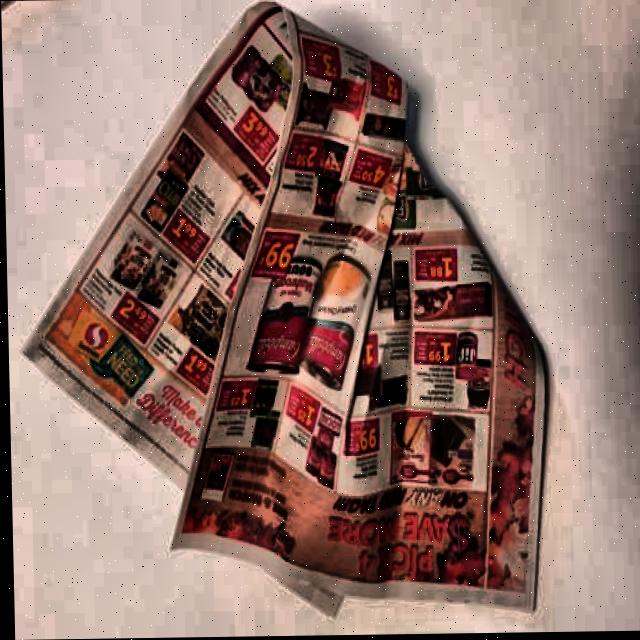paper: (12, 0, 555, 620)
